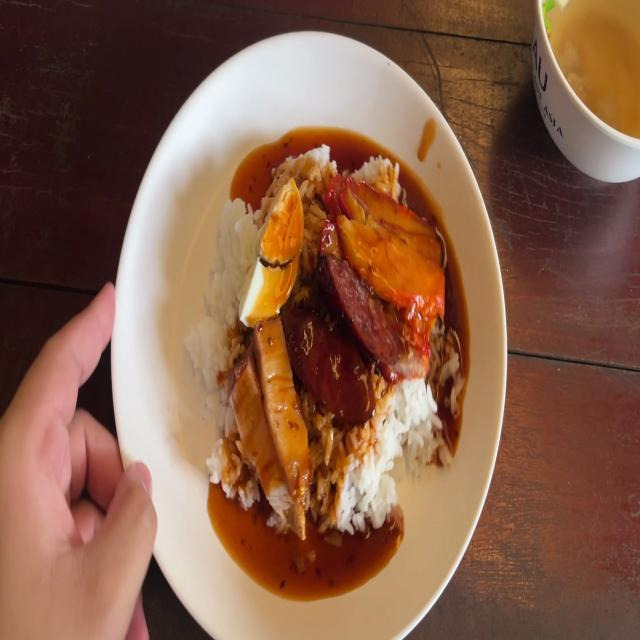red_pork_and_crispy_pork: (234, 184, 303, 322)
stir_fried_basil: (292, 262, 389, 400)
